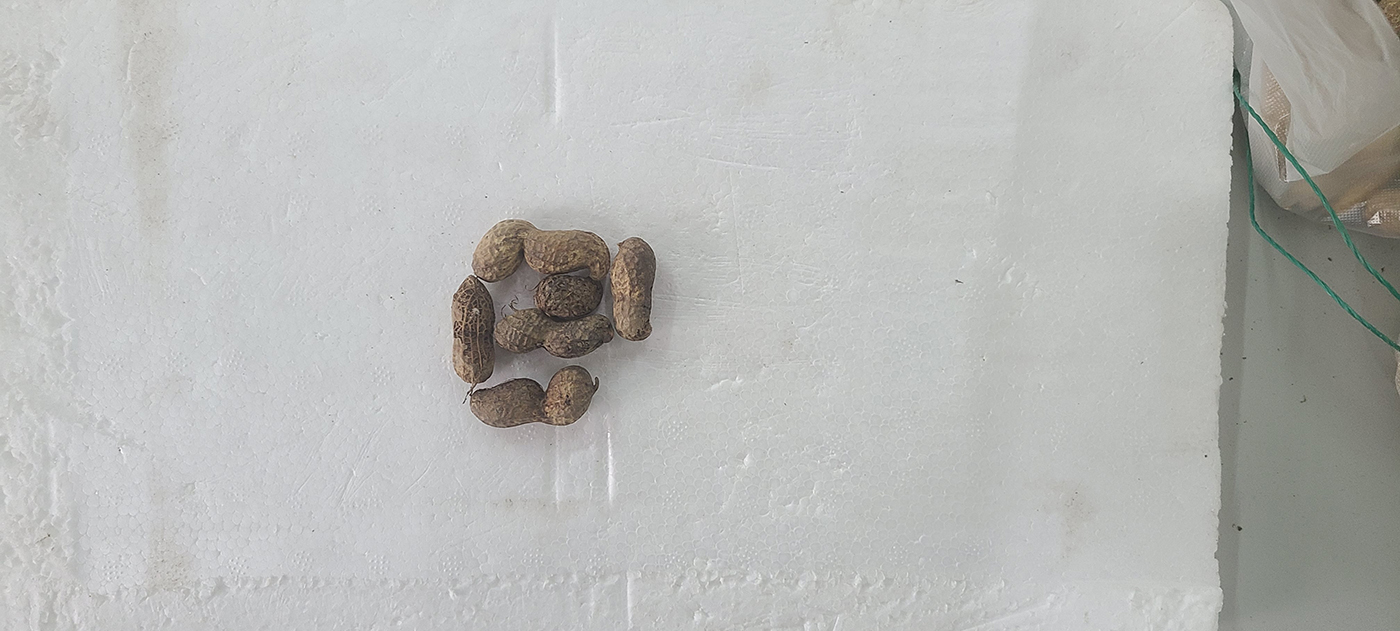l: (472, 217, 610, 282), (470, 366, 593, 429), (494, 309, 614, 358), (611, 234, 657, 342), (451, 276, 496, 382), (536, 272, 603, 320)
